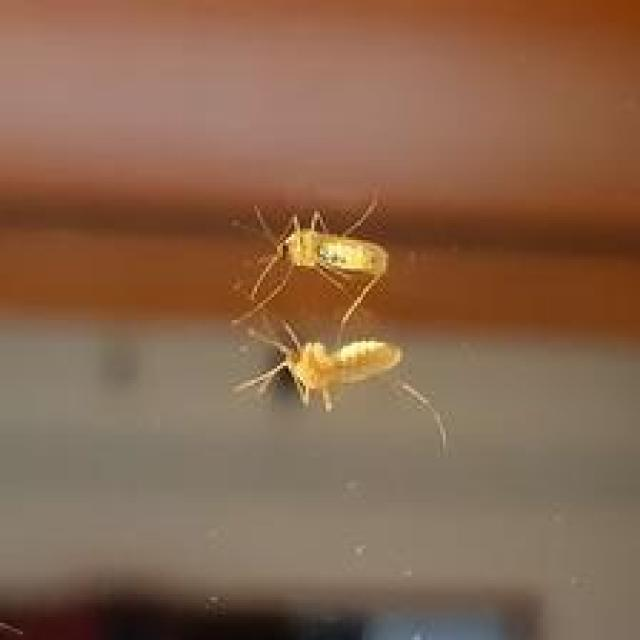Culex: (227, 192, 390, 328)
